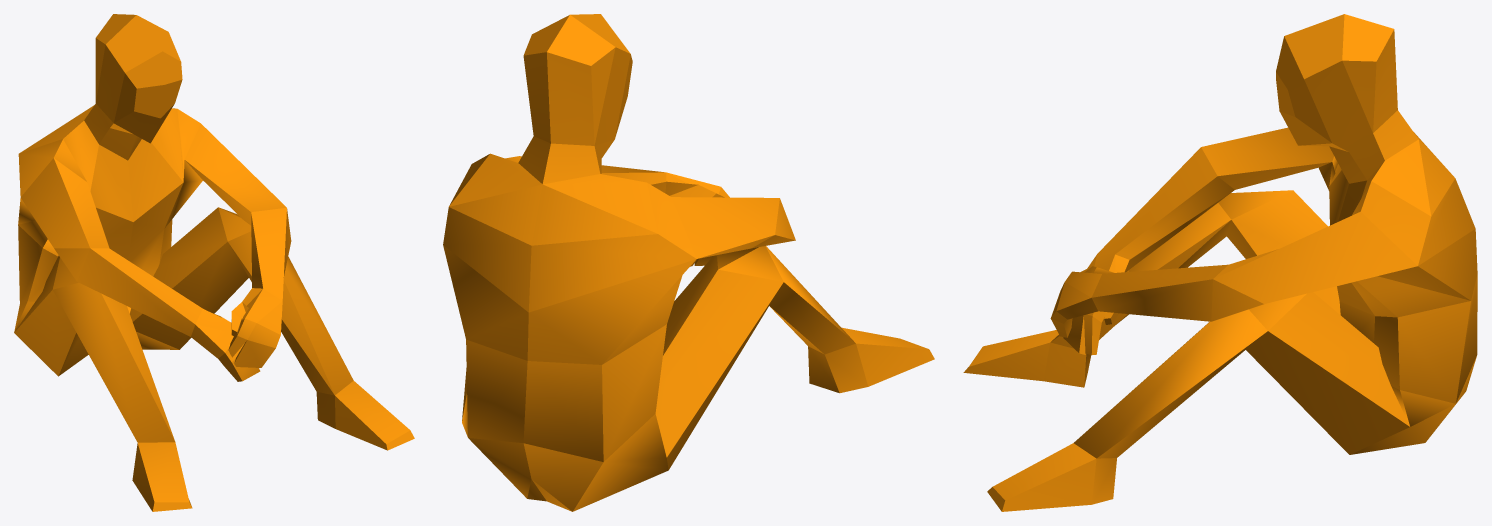
Rendered from Human07.fbx.
3 renders of one model, left to right at view 1: azimuth 30°, elevation 25°; view 2: azimuth 150°, elevation 25°; view 3: azimuth 270°, elevation 25°, orthographic. The views are drawn at different scales.
Parts seen in each view (by area): view 1: Human07; view 2: Human07; view 3: Human07.
Part boxes in pixels (bbox=[...]): Human07: bbox=[14, 14, 414, 511]; Human07: bbox=[443, 14, 934, 511]; Human07: bbox=[963, 14, 1477, 511].
Size of the model in its own units: 69.9 by 88.41 by 96.06.
